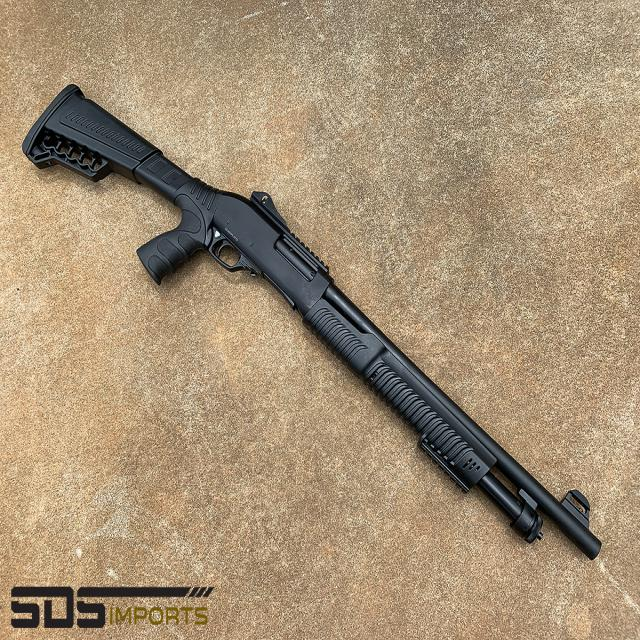long weapon: (2, 37, 628, 601)
